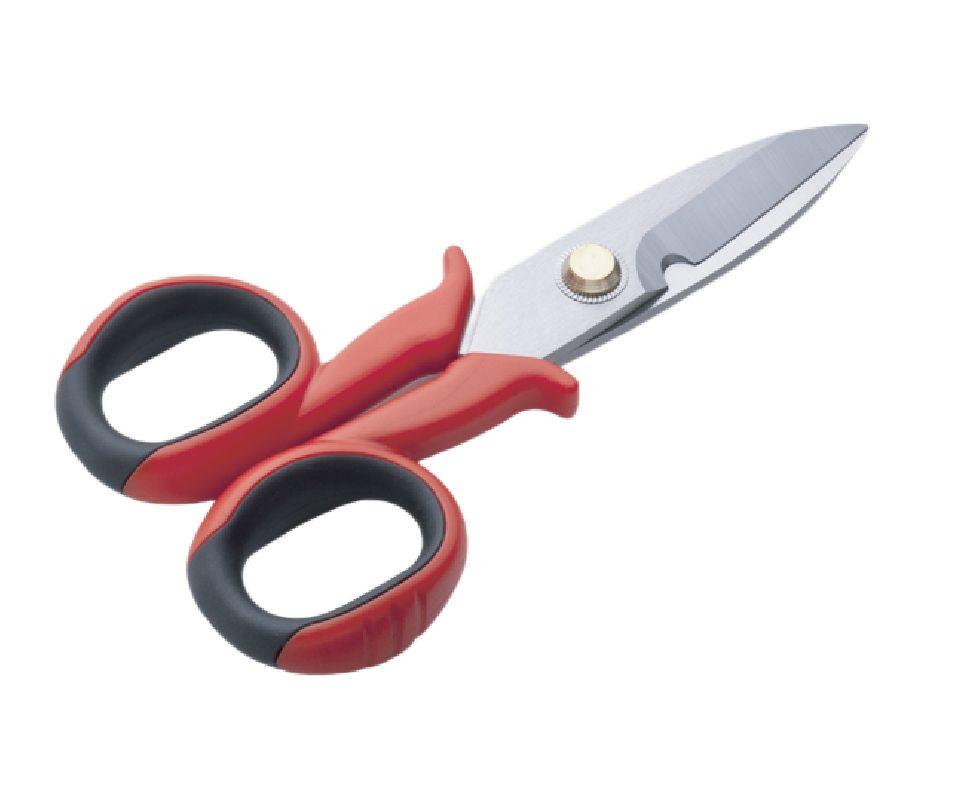scissors: (45, 120, 888, 674)
